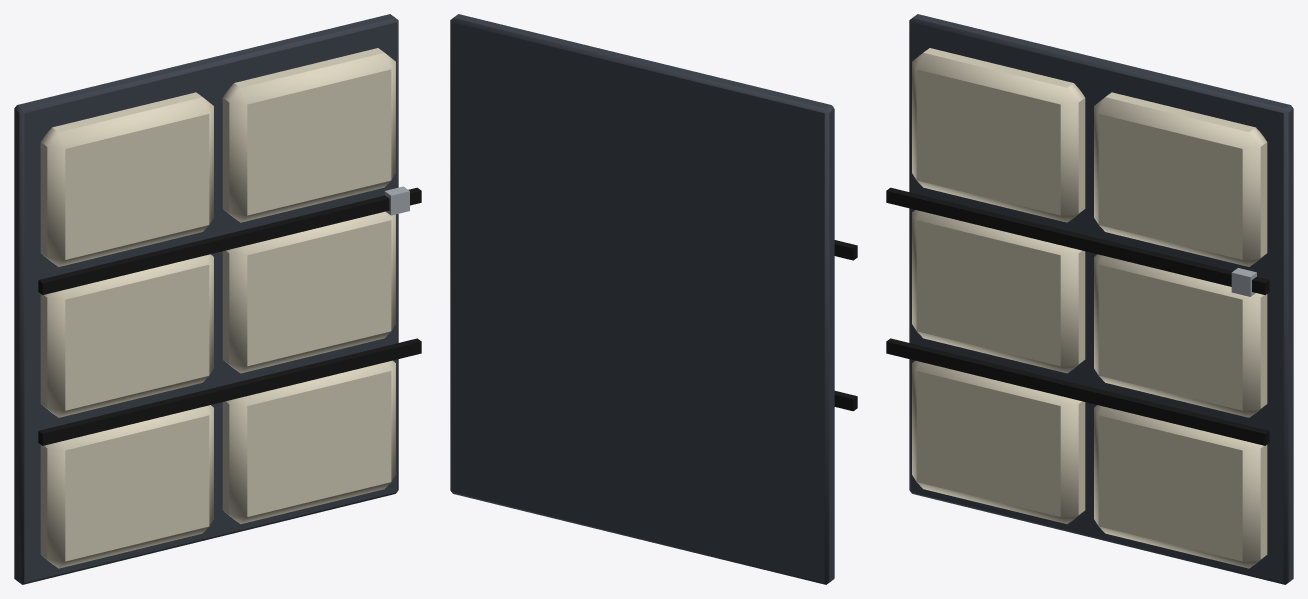
Rendered from wallpanel_quilted_insulation.glb.
3 views of the same model, side by side, from view 1: azimuth 30°, elevation 25°; view 2: azimuth 150°, elevation 25°; view 3: azimuth 330°, elevation 25° (orthographic).
Visible parts, largest first — view 1: wallpanel_quilted_insulation; view 2: wallpanel_quilted_insulation; view 3: wallpanel_quilted_insulation.
Boxes of the visible parts, x1,y1,x2,y2 form: wallpanel_quilted_insulation: (14,14,421,584); wallpanel_quilted_insulation: (450,14,857,584); wallpanel_quilted_insulation: (886,14,1293,584).
Bounding box in the file's own units: 1 × 1.2 × 0.145.
